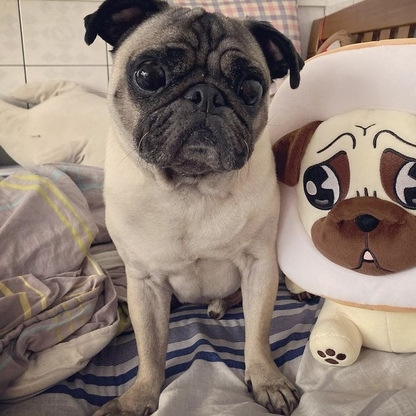Pug: (78, 1, 310, 416)
